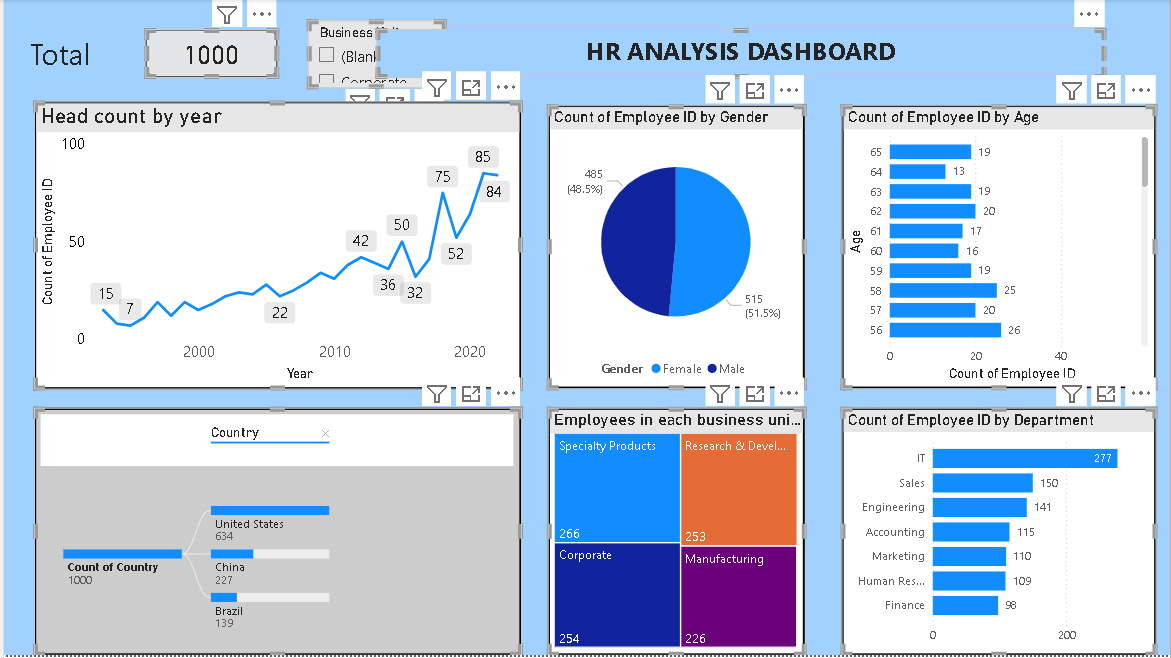

What the dashboard file says about the page in this screenshot:
{"tool":"powerbi","page":{"name":"Hr analysis","canvas":[1280,720],"ordinal":0},"visuals":[{"type":"card","fields":{"Values":["Employee Data.total_count"]},"box":[155.1,32.9,145.5,53.5],"z":0},{"type":"lineChart","title":"Head count by year","fields":{"Category":["Employee Data.Hire Date.Variation.Date Hierarchy.Year"],"Y":["CountNonNull(Employee Data.Employee ID)"]},"box":[32.9,112.5,535.2,315.6],"z":1000},{"type":"textbox","box":[23.3,32.9,131.7,53.5],"z":2000},{"type":"pieChart","fields":{"Category":["Employee Data.Gender"],"Y":["CountNonNull(Employee Data.Employee ID)"]},"box":[596.9,116.6,282.7,311.5],"z":3000},{"type":"clusteredBarChart","fields":{"Category":["Employee Data.Age"],"Y":["CountNonNull(Employee Data.Employee ID)"]},"box":[919.4,116.6,345.8,311.5],"z":4000},{"type":"decompositionTreeVisual","title":"Head count by year","fields":{"Analyze":["CountNonNull(Employee Data.Country)"],"ExplainBy":["Employee Data.Country"]},"box":[32.9,448.7,535.2,271.7],"z":5000},{"type":"decompositionTreeVisual","title":"Head count by year","fields":{"Analyze":["CountNonNull(Employee Data.Country)"],"ExplainBy":["Employee Data.Country"]},"box":[32.9,448.3,535.2,271.7],"z":6000},{"type":"treemap","title":"Employees in each business units","fields":{"Group":["Employee Data.Business Unit"],"Values":["CountNonNull(Employee Data.Employee ID)"]},"box":[596.9,448.7,282.7,271.7],"z":7000},{"type":"clusteredBarChart","fields":{"Y":["CountNonNull(Employee Data.Employee ID)"],"Category":["Employee Data.Department"]},"box":[919.4,448.7,345.8,271.7],"z":8000},{"type":"textbox","box":[408.9,32.9,800,53.5],"z":9000},{"type":"slicer","fields":{"Values":["Employee Data.Business Unit"]},"box":[333.4,23.3,150.9,74.1],"z":10000}]}

Visuals, with their boxes in screenshot pixels (x1, y1, x2, y2):
card - Employee Data.total_count: region(146, 30, 277, 78)
"Head count by year" lineChart: region(36, 101, 519, 386)
textbox: region(27, 30, 146, 78)
pieChart - Employee Data.Gender x CountNonNull(Employee Data.Employee ID): region(545, 105, 800, 386)
clusteredBarChart - Employee Data.Age x CountNonNull(Employee Data.Employee ID): region(836, 105, 1148, 386)
"Head count by year" decompositionTreeVisual: region(36, 405, 519, 650)
"Head count by year" decompositionTreeVisual: region(36, 404, 519, 650)
"Employees in each business units" treemap: region(545, 405, 800, 650)
clusteredBarChart - CountNonNull(Employee Data.Employee ID) x Employee Data.Department: region(836, 405, 1148, 650)
textbox: region(375, 30, 1097, 78)
slicer - Employee Data.Business Unit: region(307, 21, 443, 88)
